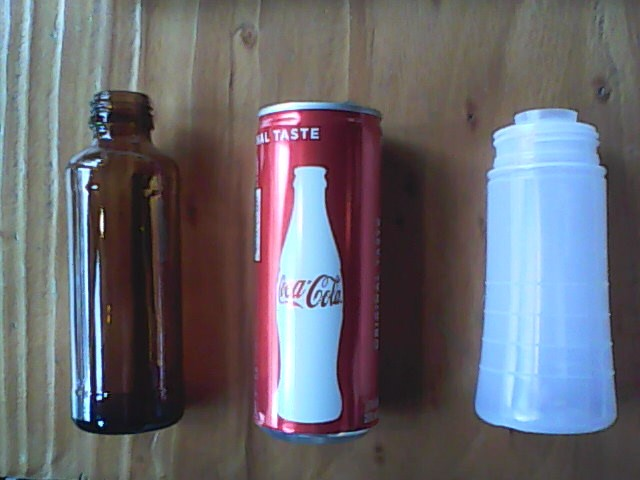Can: (243, 94, 387, 448)
Glass: (59, 82, 190, 441)
Plastic: (469, 104, 624, 440)
